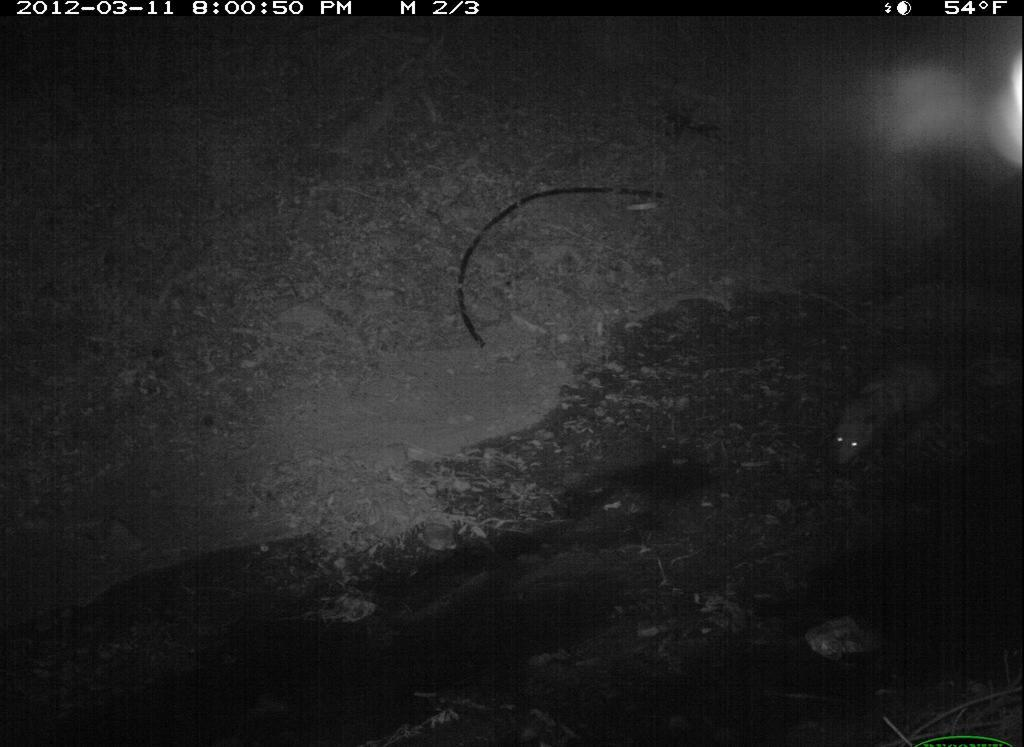opossum: (824, 360, 953, 486)
